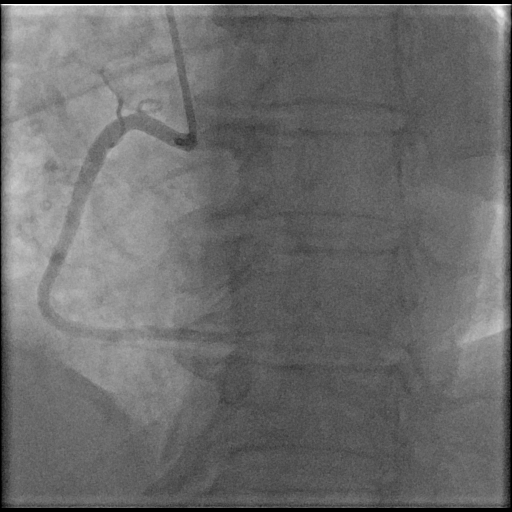RCA: (39, 112, 237, 341)
catherter: (165, 6, 194, 133)
